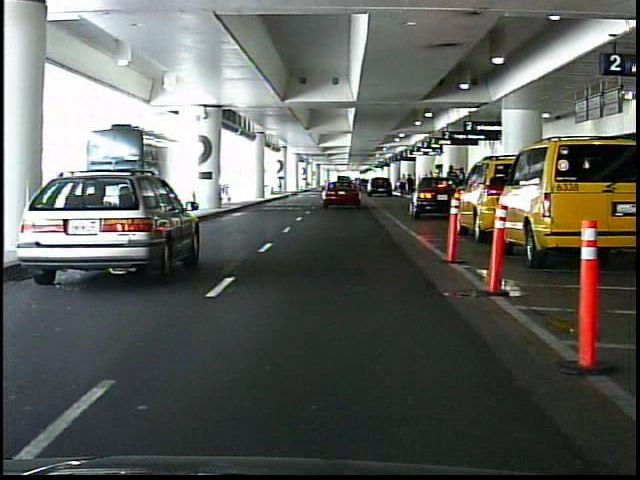person: (442, 162, 461, 212), (455, 166, 472, 217), (399, 174, 408, 197), (406, 173, 414, 196)
